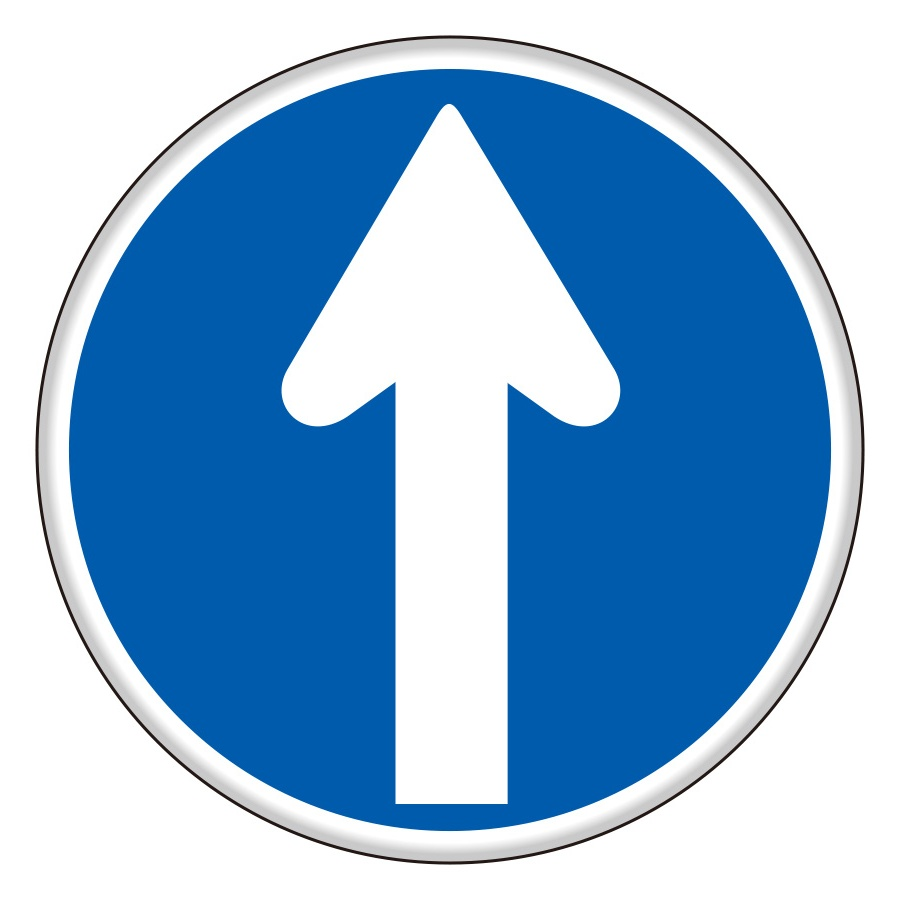Direction_sign: (22, 24, 885, 893)
